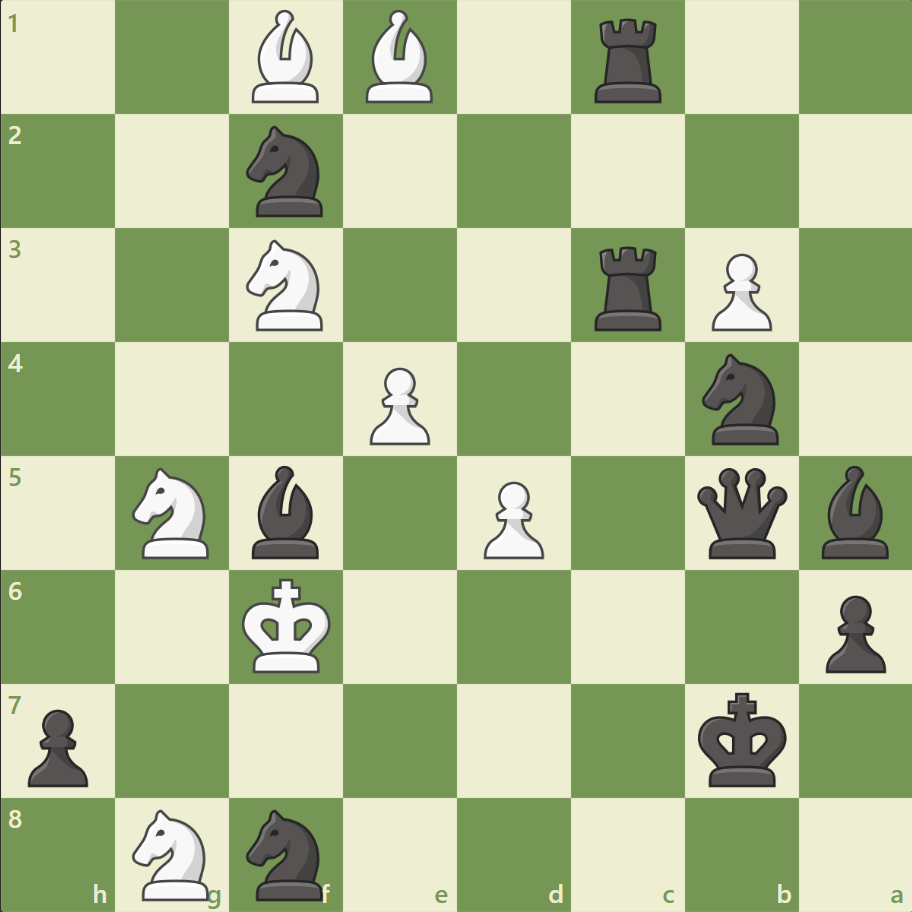B: (358, 6, 442, 109), (244, 6, 328, 109)
K: (238, 571, 338, 679)
N: (124, 461, 222, 564), (124, 802, 222, 904), (238, 234, 335, 337)
P: (474, 473, 549, 564), (701, 246, 776, 337), (361, 359, 435, 450)
b: (812, 460, 896, 563), (244, 460, 328, 563)
k: (692, 685, 792, 793)
n: (238, 802, 335, 904), (692, 348, 789, 450), (238, 121, 335, 223)
p: (20, 700, 95, 791), (815, 586, 889, 677)
q: (691, 463, 790, 562)
r: (587, 239, 670, 336), (587, 12, 670, 109)
